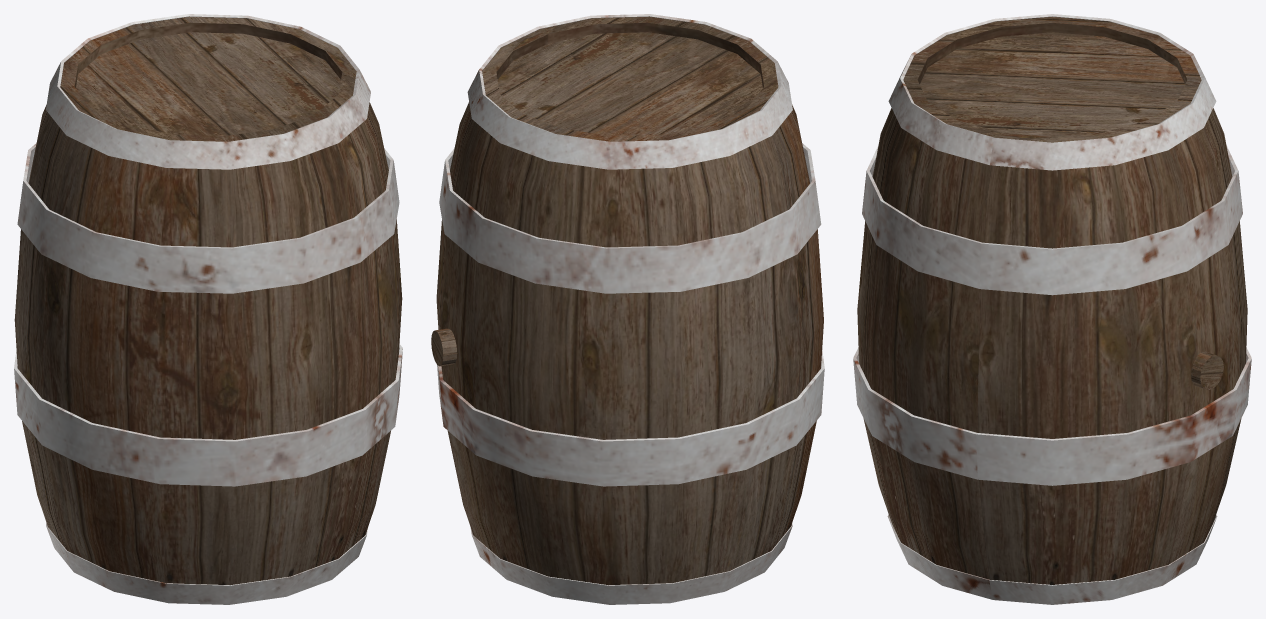
The model's file is Barrel.fbx.
3 views of the same model, side by side, from view 1: azimuth 30°, elevation 25°; view 2: azimuth 150°, elevation 25°; view 3: azimuth 270°, elevation 25° (orthographic).
Visible parts, largest first — view 1: Body, Ring.003, Ring, Ring.002, Ring.001; view 2: Body, Ring.003, Ring, Ring.002, Ring.001, Plug; view 3: Body, Ring, Ring.003, Ring.002, Ring.001, Plug.
Part boxes in pixels (x1,y1,x2,y2): Body: (14, 16, 402, 585); Ring.003: (17, 143, 399, 293); Ring: (14, 344, 402, 486); Ring.002: (46, 14, 370, 169); Ring.001: (46, 523, 368, 604); Body: (436, 16, 823, 585); Ring.003: (439, 143, 821, 293); Ring: (437, 350, 824, 486); Ring.002: (467, 14, 792, 169); Ring.001: (470, 523, 792, 604); Plug: (431, 328, 457, 366); Body: (857, 16, 1247, 584); Ring: (853, 347, 1251, 485); Ring.003: (862, 145, 1242, 295); Ring.002: (888, 14, 1216, 170); Ring.001: (887, 514, 1217, 604); Plug: (1191, 351, 1223, 390).
Bounding box in the file's own units: 59.88 × 78.05 × 61.16.
